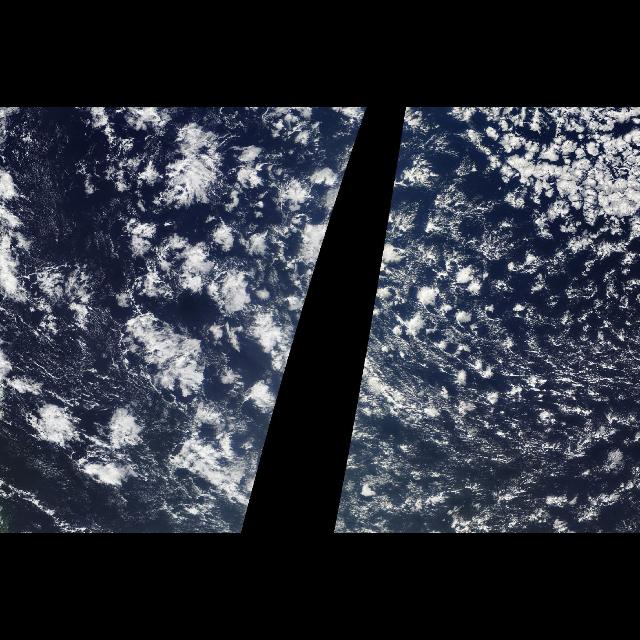Flower: (76, 113, 364, 489), (404, 108, 640, 406), (342, 351, 364, 489)
Gravel: (360, 206, 640, 514)
Sugar: (6, 110, 144, 402)
